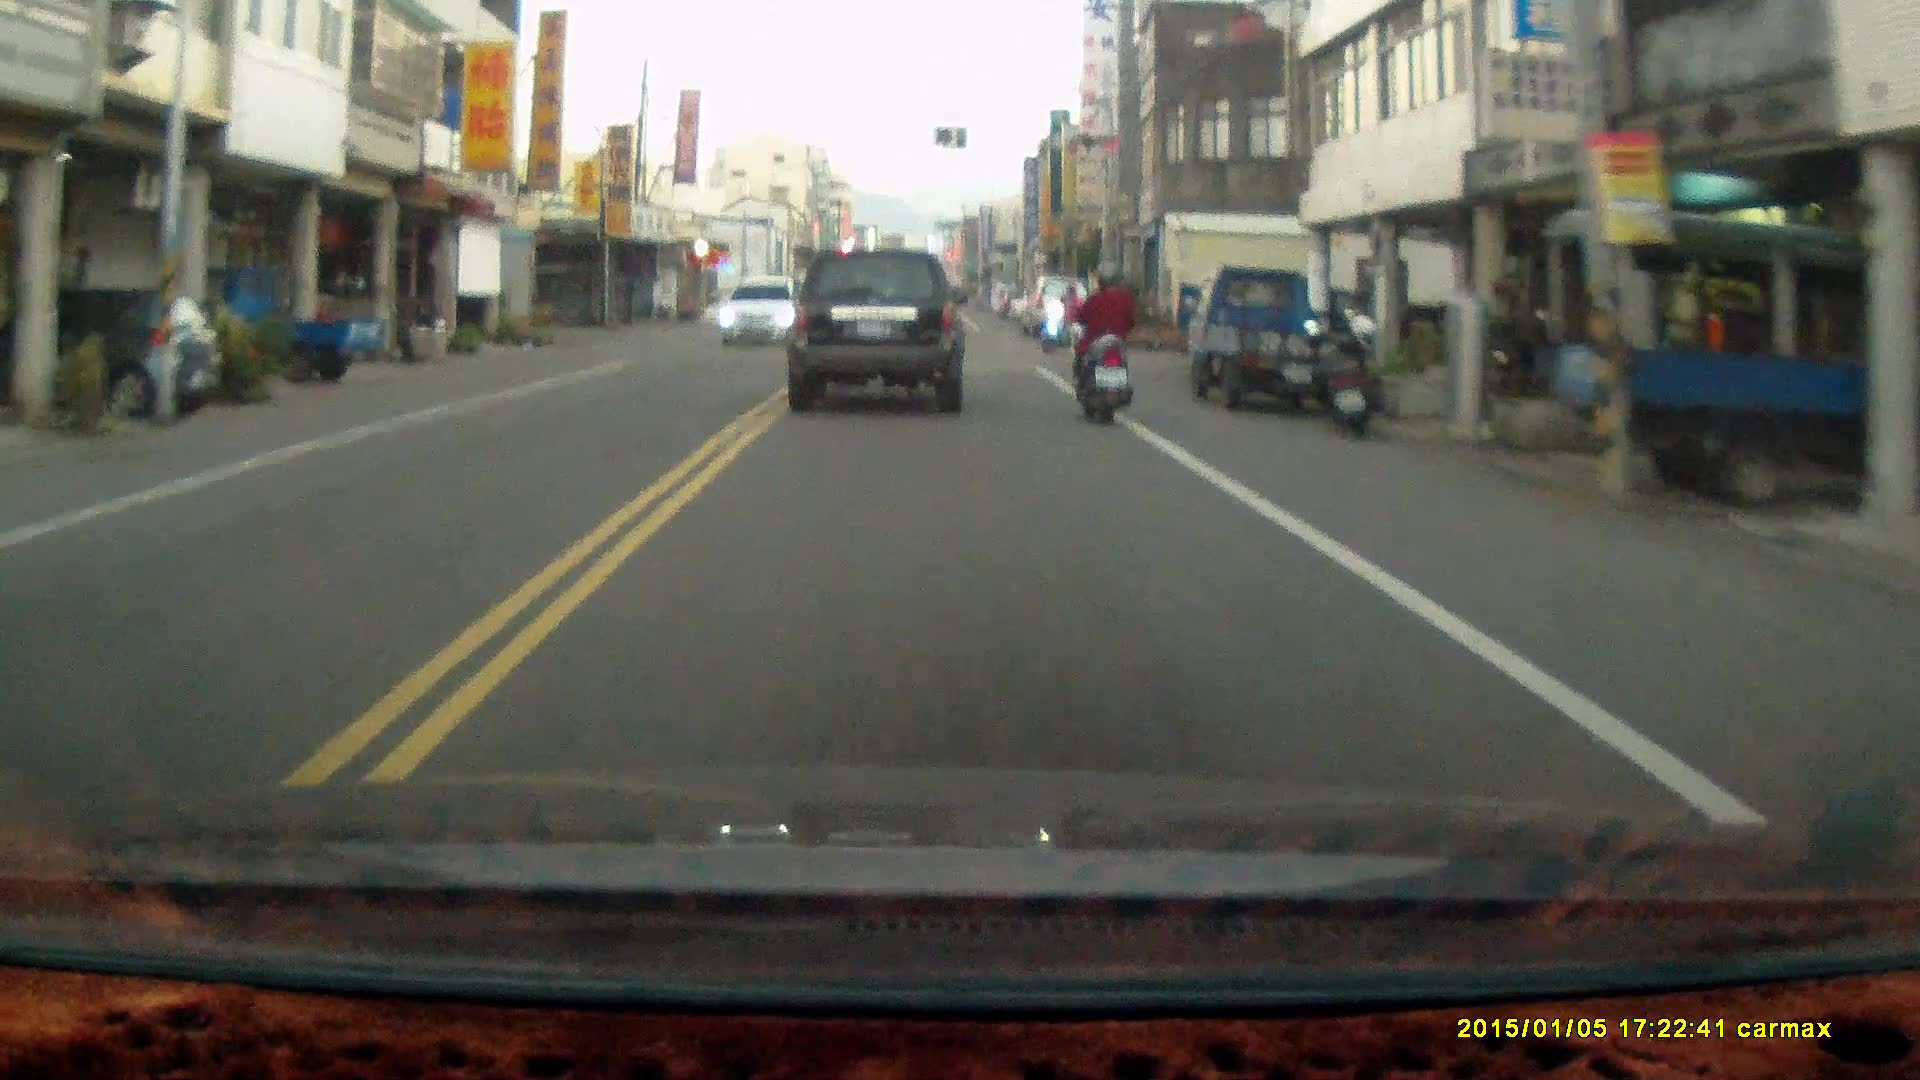rider: (1073, 265, 1133, 428), (1037, 289, 1085, 356)
vehicle: (1572, 217, 1920, 508), (788, 248, 969, 419), (1, 292, 220, 428), (1187, 273, 1376, 418), (187, 264, 390, 384), (720, 283, 800, 349)
